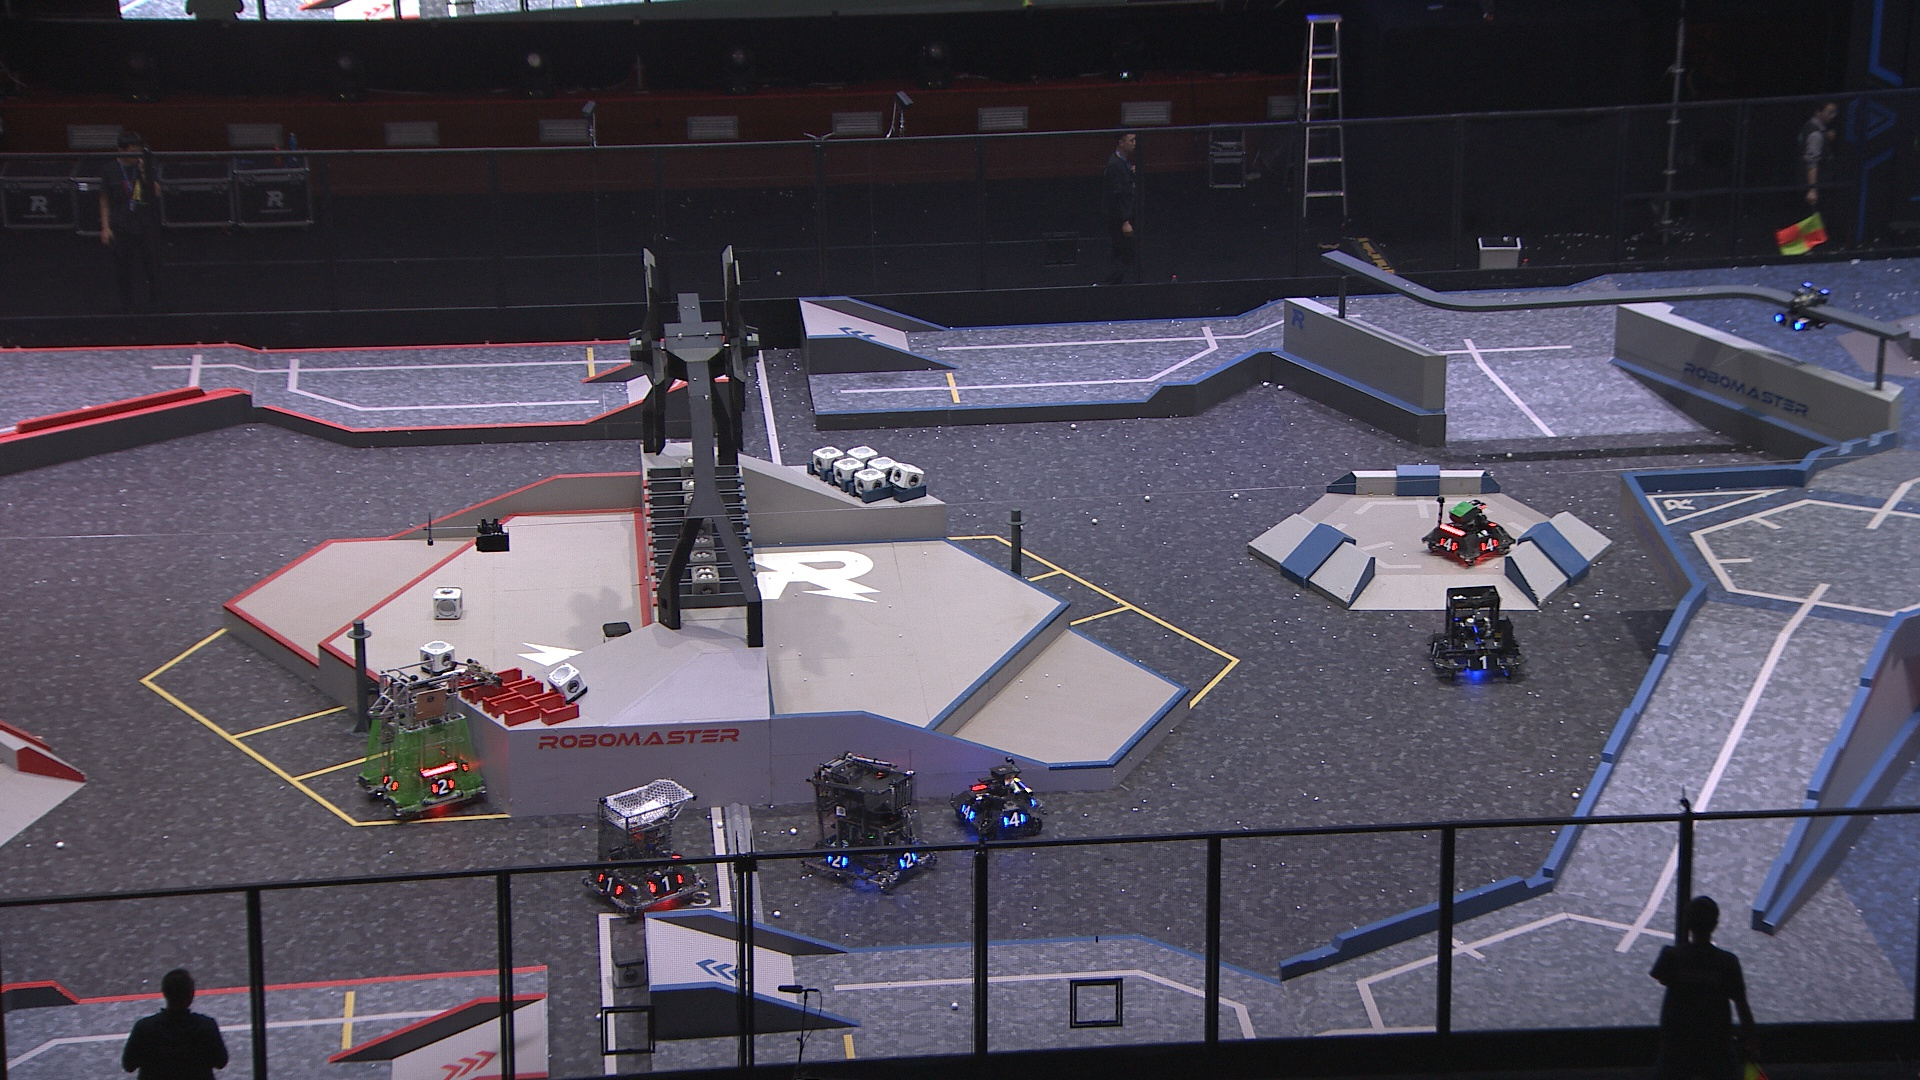armor: (595, 869, 624, 897), (646, 874, 684, 893), (1465, 636, 1501, 654), (1465, 655, 1503, 673), (1775, 313, 1807, 332), (430, 777, 458, 796), (1002, 808, 1027, 829), (897, 851, 918, 870), (1439, 535, 1461, 553), (825, 855, 851, 869), (381, 774, 400, 793), (1480, 537, 1501, 553), (1428, 640, 1444, 661), (960, 803, 977, 822)
car: (352, 657, 487, 822), (800, 752, 939, 894), (578, 779, 709, 920), (1427, 583, 1523, 684), (951, 756, 1048, 844), (1420, 495, 1516, 568)
watcher: (1774, 281, 1836, 335)
